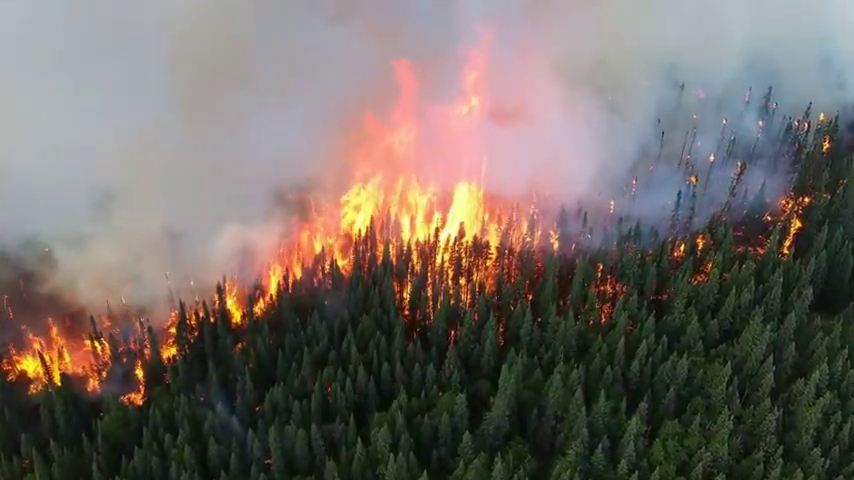forest_fire: (213, 176, 561, 326), (0, 319, 130, 392), (121, 304, 185, 404), (779, 197, 810, 257), (394, 280, 417, 302), (692, 234, 710, 253), (671, 240, 687, 259)
